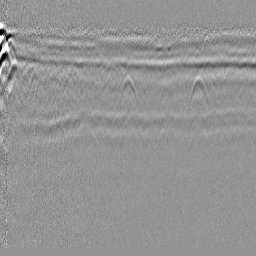cavity: (116, 75, 140, 105)
